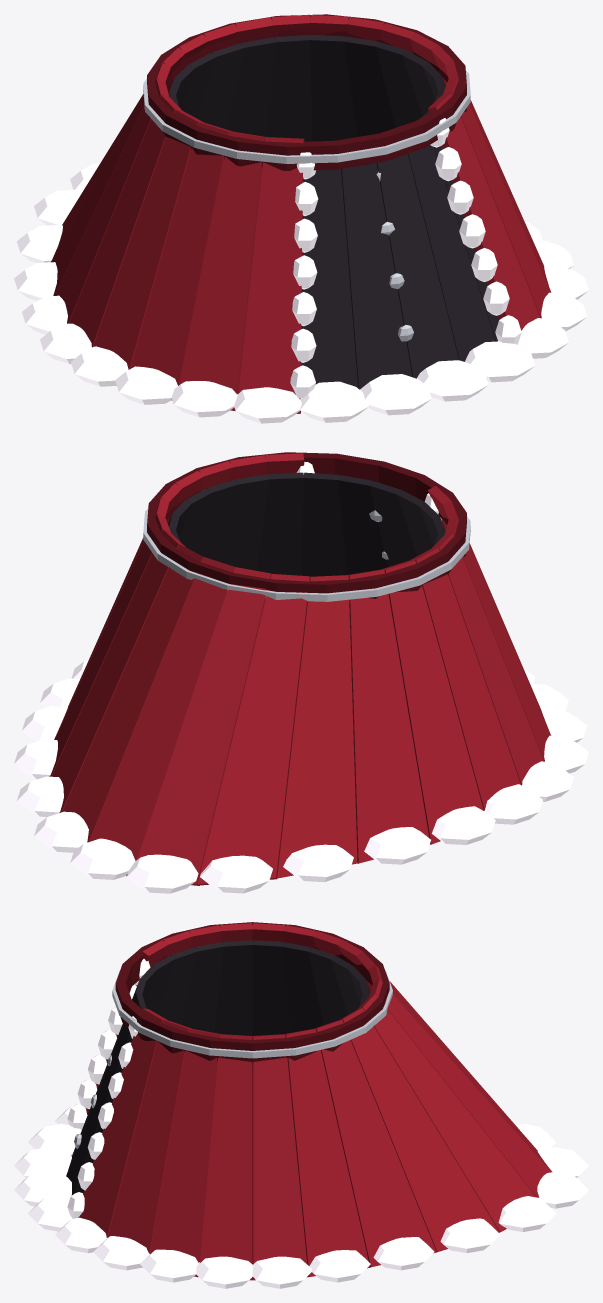
The model's file is countess_morvaine_gown.glb.
3 views of the same model, one above another, from view 1: azimuth 30°, elevation 25°; view 2: azimuth 150°, elevation 25°; view 3: azimuth 270°, elevation 25° (orthographic). The views are drawn at different scales.
Parts seen in each view (by area): view 1: countess_morvaine_gown; view 2: countess_morvaine_gown; view 3: countess_morvaine_gown.
Part boxes in pixels (x1,y1,x2,y2): countess_morvaine_gown: [14, 14, 588, 423]; countess_morvaine_gown: [14, 452, 588, 893]; countess_morvaine_gown: [14, 922, 588, 1288].
Bounding box in the file's own units: 1.51 × 0.6978 × 1.72.
